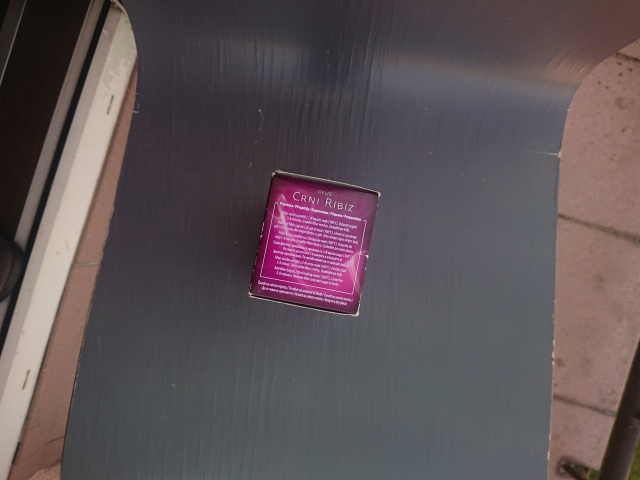Franck Black Currant Tea 60g: (245, 167, 383, 319)
